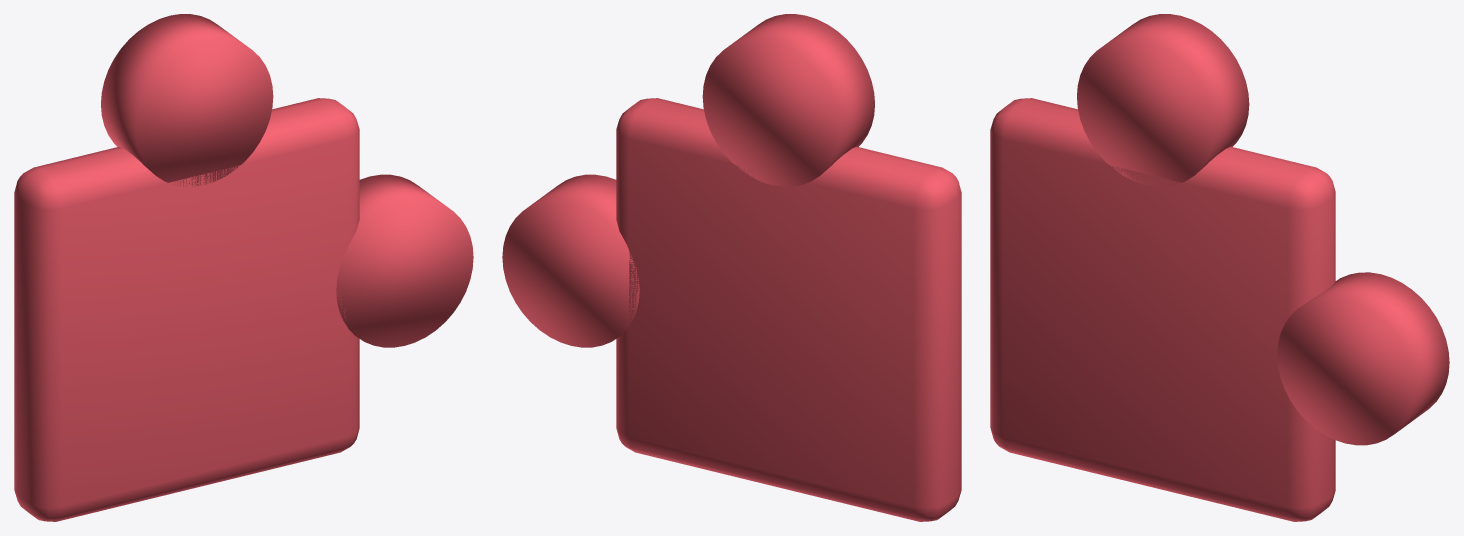
The model's file is puzzle_red.glb.
3 views of the same model, side by side, from view 1: azimuth 30°, elevation 25°; view 2: azimuth 150°, elevation 25°; view 3: azimuth 330°, elevation 25° (orthographic).
Visible parts, largest first — view 1: puzzle_red; view 2: puzzle_red; view 3: puzzle_red.
Boxes of the visible parts, x1,y1,x2,y2 form: puzzle_red: (14, 14, 473, 521); puzzle_red: (502, 14, 961, 521); puzzle_red: (990, 14, 1449, 521).
Size of the model in its own units: 0.606 by 0.606 by 0.085.
